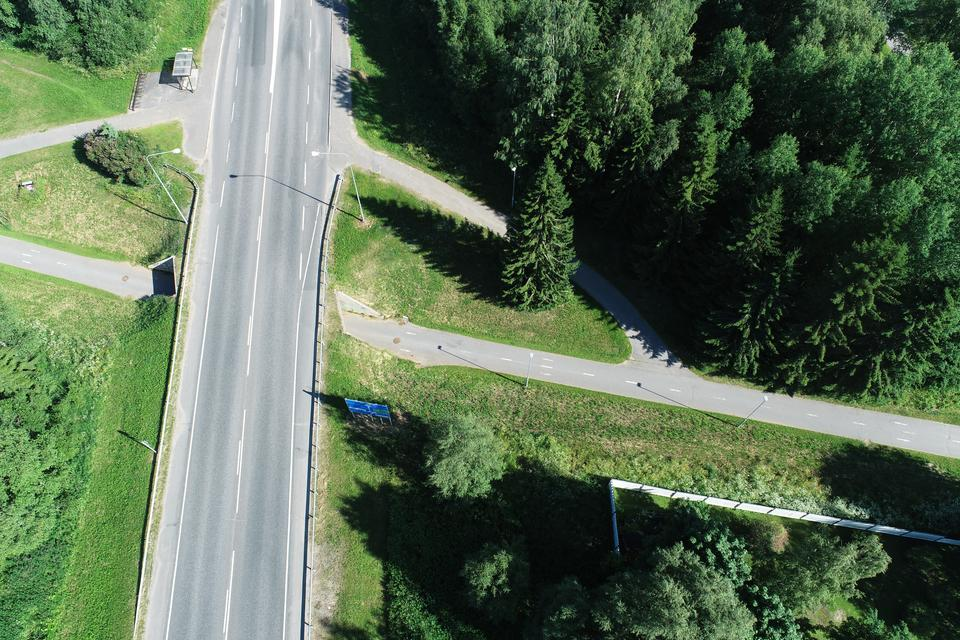intersection: (138, 47, 390, 217), (570, 291, 736, 433)
